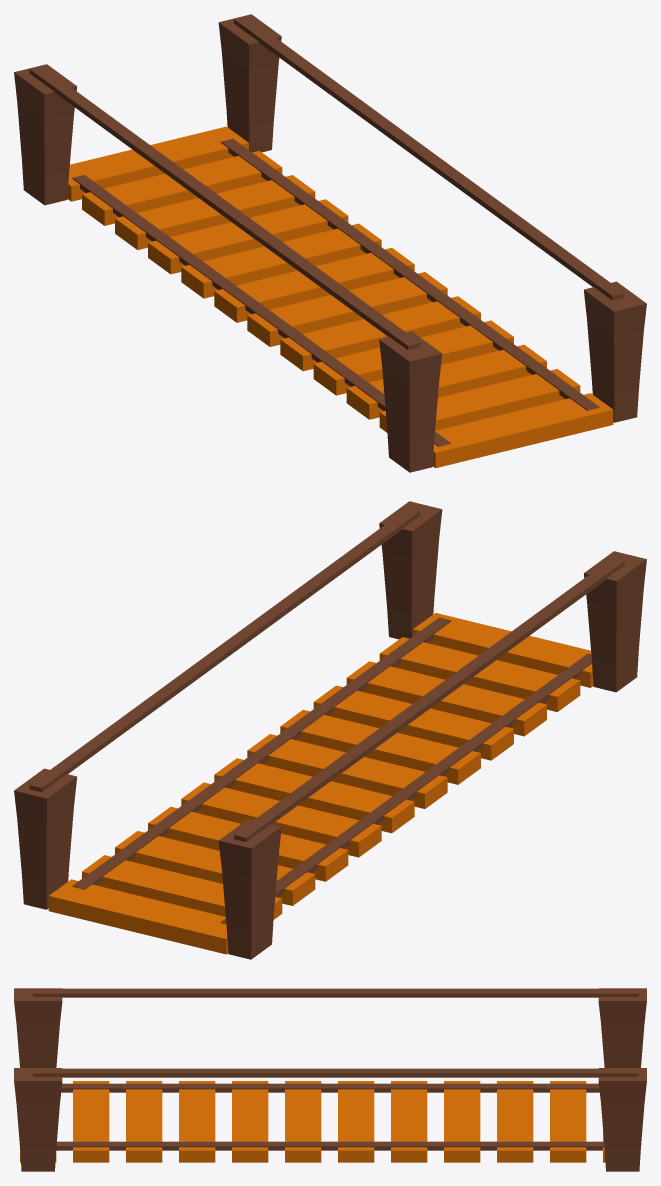
File: puente 1.fbx
The picture shows the model from 3 angles, top to bottom: view 1: azimuth 30°, elevation 25°; view 2: azimuth 150°, elevation 25°; view 3: azimuth 270°, elevation 25°; orthographic projection. The views are drawn at different scales.
Parts seen in each view (by area): view 1: Cube.005; view 2: Cube.005; view 3: Cube.005.
Part boxes in pixels (bbox=[...]): Cube.005: bbox=[14, 14, 646, 472]; Cube.005: bbox=[14, 501, 646, 959]; Cube.005: bbox=[14, 988, 646, 1171].
Bounding box in the file's own units: 765 × 373 × 2205.
